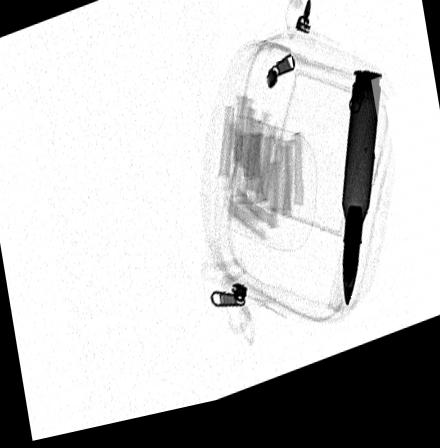Bullet: (341, 83, 384, 324)
